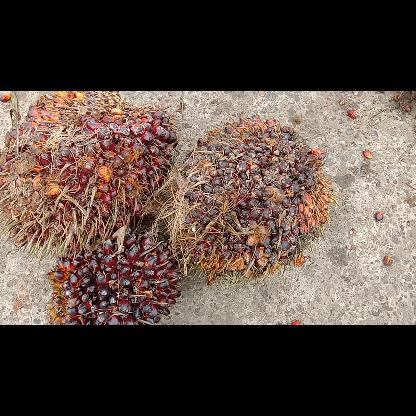Kurang masak: (180, 114, 334, 284), (49, 227, 181, 323)
TBS masak: (0, 90, 178, 254)
